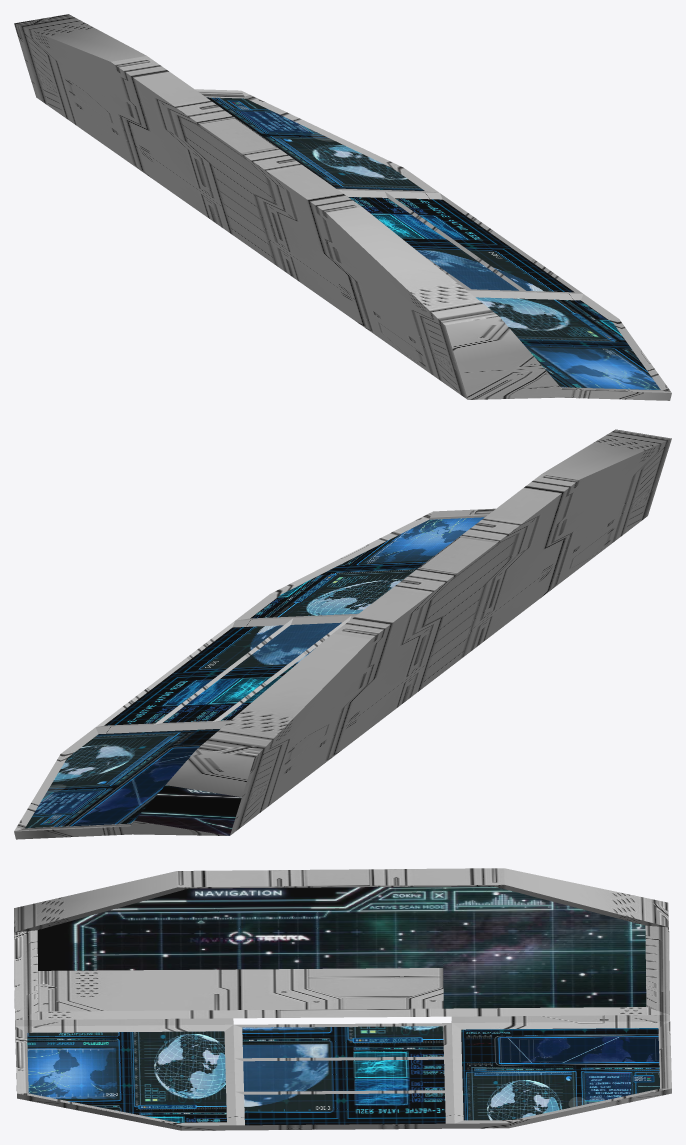
The model's file is wallcomputerglb.glb.
3 renders of one model, top to bottom at view 1: azimuth 30°, elevation 25°; view 2: azimuth 150°, elevation 25°; view 3: azimuth 270°, elevation 25°, orthographic. The views are drawn at different scales.
Parts seen in each view (by area): view 1: MaterialFBXASC032FBXASC0352142172430; view 2: MaterialFBXASC032FBXASC0352142172430; view 3: MaterialFBXASC032FBXASC0352142172430.
Part boxes in pixels (x1,y1,x2,y2): MaterialFBXASC032FBXASC0352142172430: (14, 14, 671, 400); MaterialFBXASC032FBXASC0352142172430: (14, 429, 671, 839); MaterialFBXASC032FBXASC0352142172430: (14, 868, 671, 1130).
Size of the model in its own units: 0.8369 by 0.4961 by 2.01.
3 materials, 3 textured.
